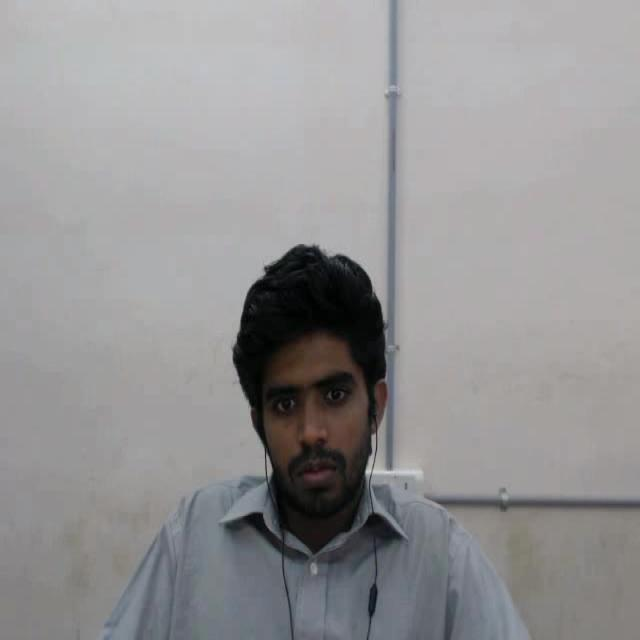Engaged: (208, 217, 426, 553)
